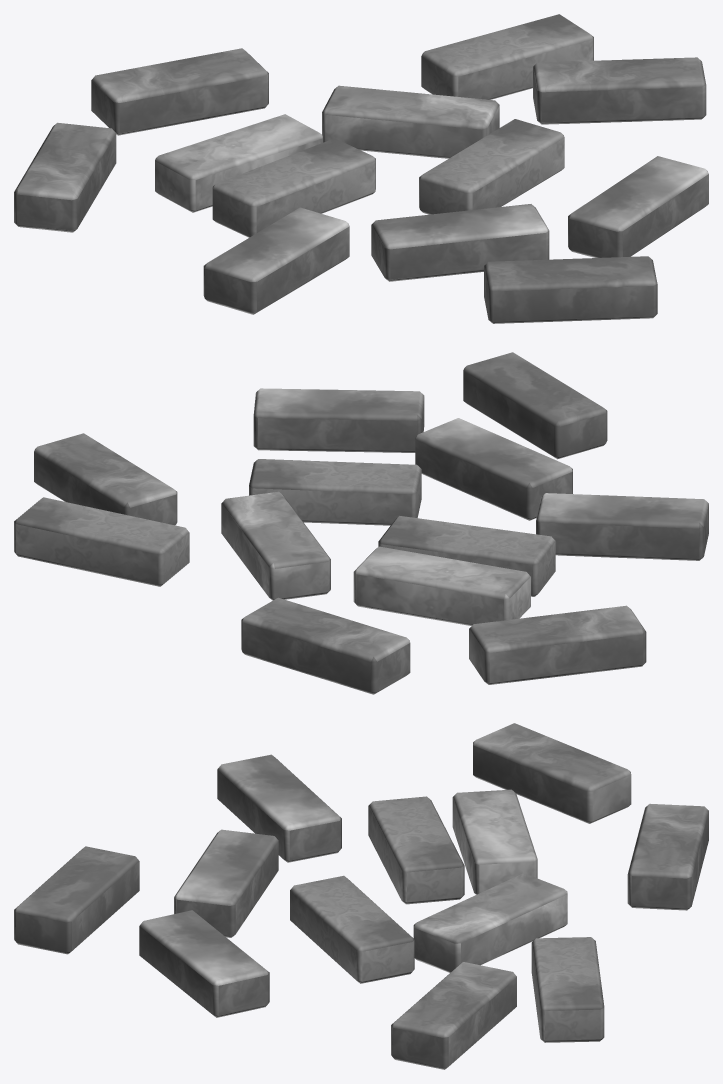
File: SM_floor_bricks_03.fbx
3 views of the same model, one above another, from view 1: azimuth 30°, elevation 25°; view 2: azimuth 150°, elevation 25°; view 3: azimuth 270°, elevation 25° (orthographic).
Parts seen in each view (by area): view 1: SM_floor_bricks_03; view 2: SM_floor_bricks_03; view 3: SM_floor_bricks_03.
Part boxes in pixels (left/top/right/bottom): SM_floor_bricks_03: left=14, top=14, right=708, bottom=323; SM_floor_bricks_03: left=14, top=352, right=708, bottom=694; SM_floor_bricks_03: left=14, top=723, right=708, bottom=1069.
Bounding box in the file's own units: 163 × 154 × 9.26.
Materials: 1 (1 with a texture image).
